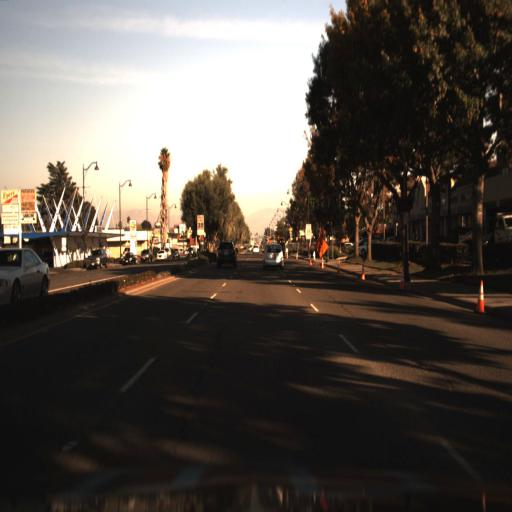car: (0, 247, 49, 306), (213, 236, 241, 270), (82, 248, 106, 275), (353, 238, 376, 260), (263, 240, 283, 265), (382, 231, 404, 247), (154, 243, 166, 268), (138, 250, 154, 266), (119, 252, 135, 267), (138, 249, 152, 266)
